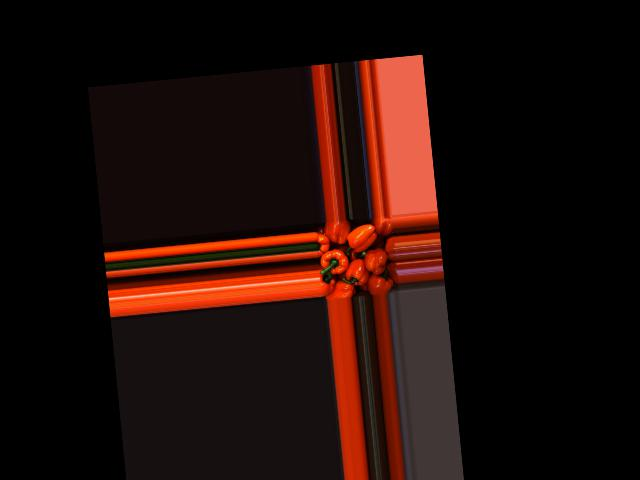bell_pepper: (379, 255, 399, 287)
